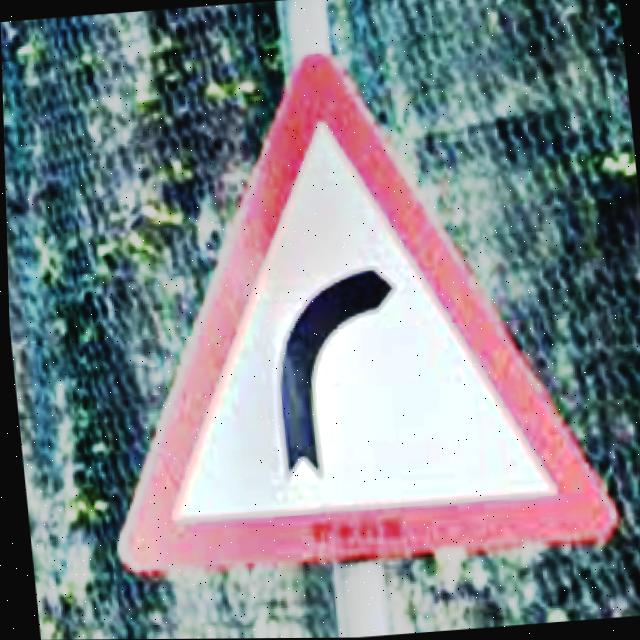rightbend: (115, 51, 615, 576)
